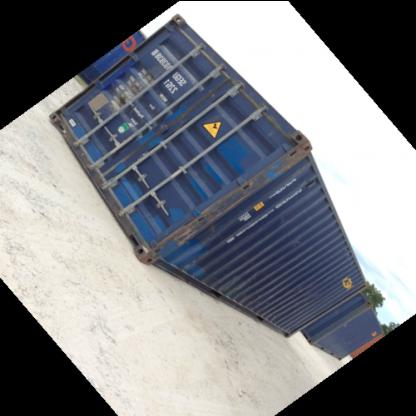Damage: (234, 138, 313, 198), (167, 191, 238, 245), (286, 232, 310, 252)
